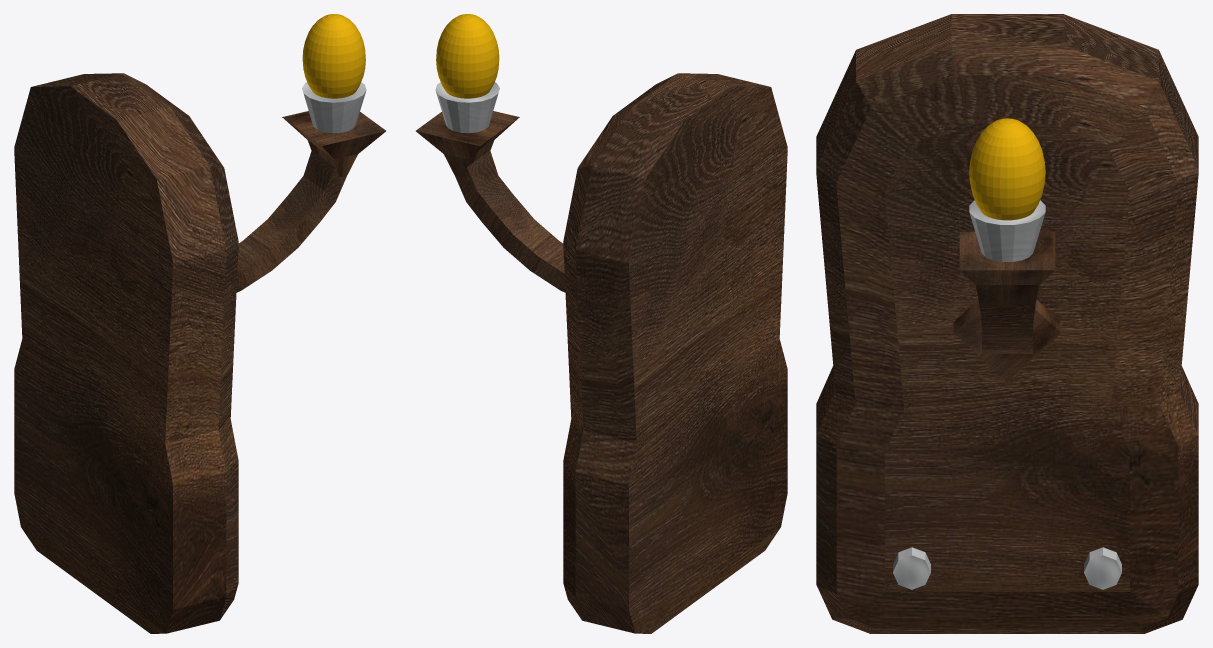
File: Lumière_Murale_KOT.fbx
The picture shows the model from 3 angles, left to right: view 1: azimuth 30°, elevation 25°; view 2: azimuth 150°, elevation 25°; view 3: azimuth 270°, elevation 25°; orthographic projection. The views are drawn at different scales.
Visible parts, largest first — view 1: Base_Murale, Manche, Lumière, Base Lumière; view 2: Base_Murale, Manche, Lumière, Base Lumière; view 3: Base_Murale, Manche, Lumière, Base Manche, Base Lumière, Ecrou.
Part boxes in pixels (x1=…): Base_Murale: x1=14, y1=73, x2=238, y2=633; Manche: x1=236, y1=111, x2=385, y2=292; Lumière: x1=302, y1=14, x2=365, y2=98; Base Lumière: x1=302, y1=82, x2=366, y2=133; Base_Murale: x1=563, y1=73, x2=787, y2=633; Manche: x1=416, y1=111, x2=565, y2=292; Lumière: x1=436, y1=14, x2=499, y2=98; Base Lumière: x1=435, y1=82, x2=499, y2=133; Base_Murale: x1=816, y1=14, x2=1198, y2=633; Manche: x1=959, y1=231, x2=1055, y2=353; Lumière: x1=969, y1=118, x2=1045, y2=220; Base Manche: x1=953, y1=299, x2=1061, y2=381; Base Lumière: x1=969, y1=200, x2=1045, y2=261; Ecrou: x1=893, y1=547, x2=1121, y2=589.
Size of the model in its own units: 99.33 by 180 by 100.
